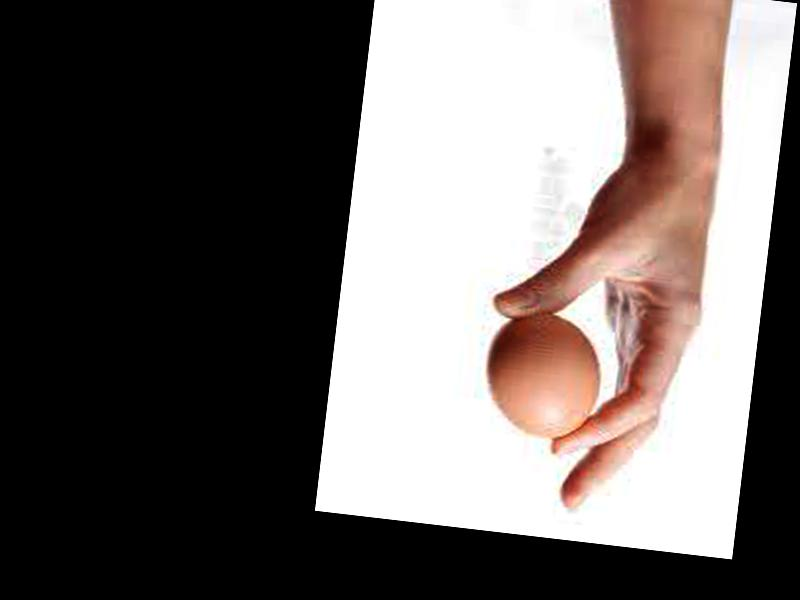Eggs: (481, 305, 605, 442)
